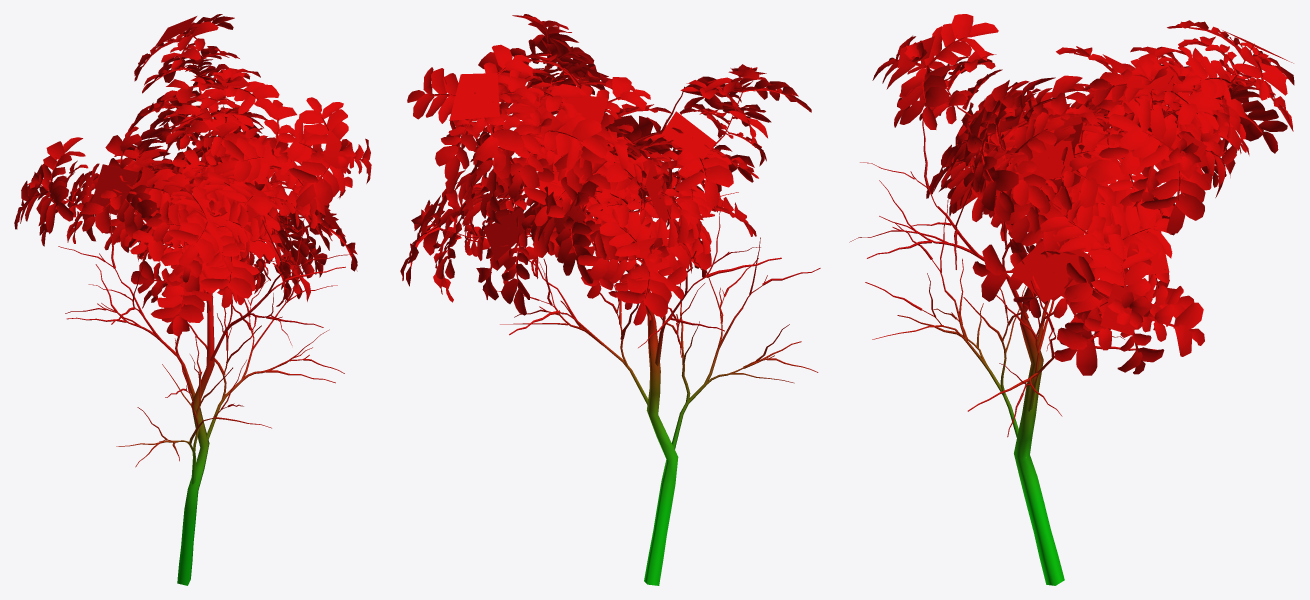
Rendered from Rose Hip_LOD2_Var7.fbx.
3 views of the same model, side by side, from view 1: azimuth 30°, elevation 25°; view 2: azimuth 150°, elevation 25°; view 3: azimuth 270°, elevation 25° (orthographic). The views are drawn at different scales.
Parts seen in each view (by area): view 1: _pv0m_Var7_LOD2; view 2: _pv0m_Var7_LOD2; view 3: _pv0m_Var7_LOD2.
Part boxes in pixels (box(x1,y1,x2,y2)): _pv0m_Var7_LOD2: box(14, 14, 371, 585); _pv0m_Var7_LOD2: box(400, 14, 820, 585); _pv0m_Var7_LOD2: box(849, 14, 1294, 585).
Bounding box in the file's own units: 68.64 × 115 × 76.18.
